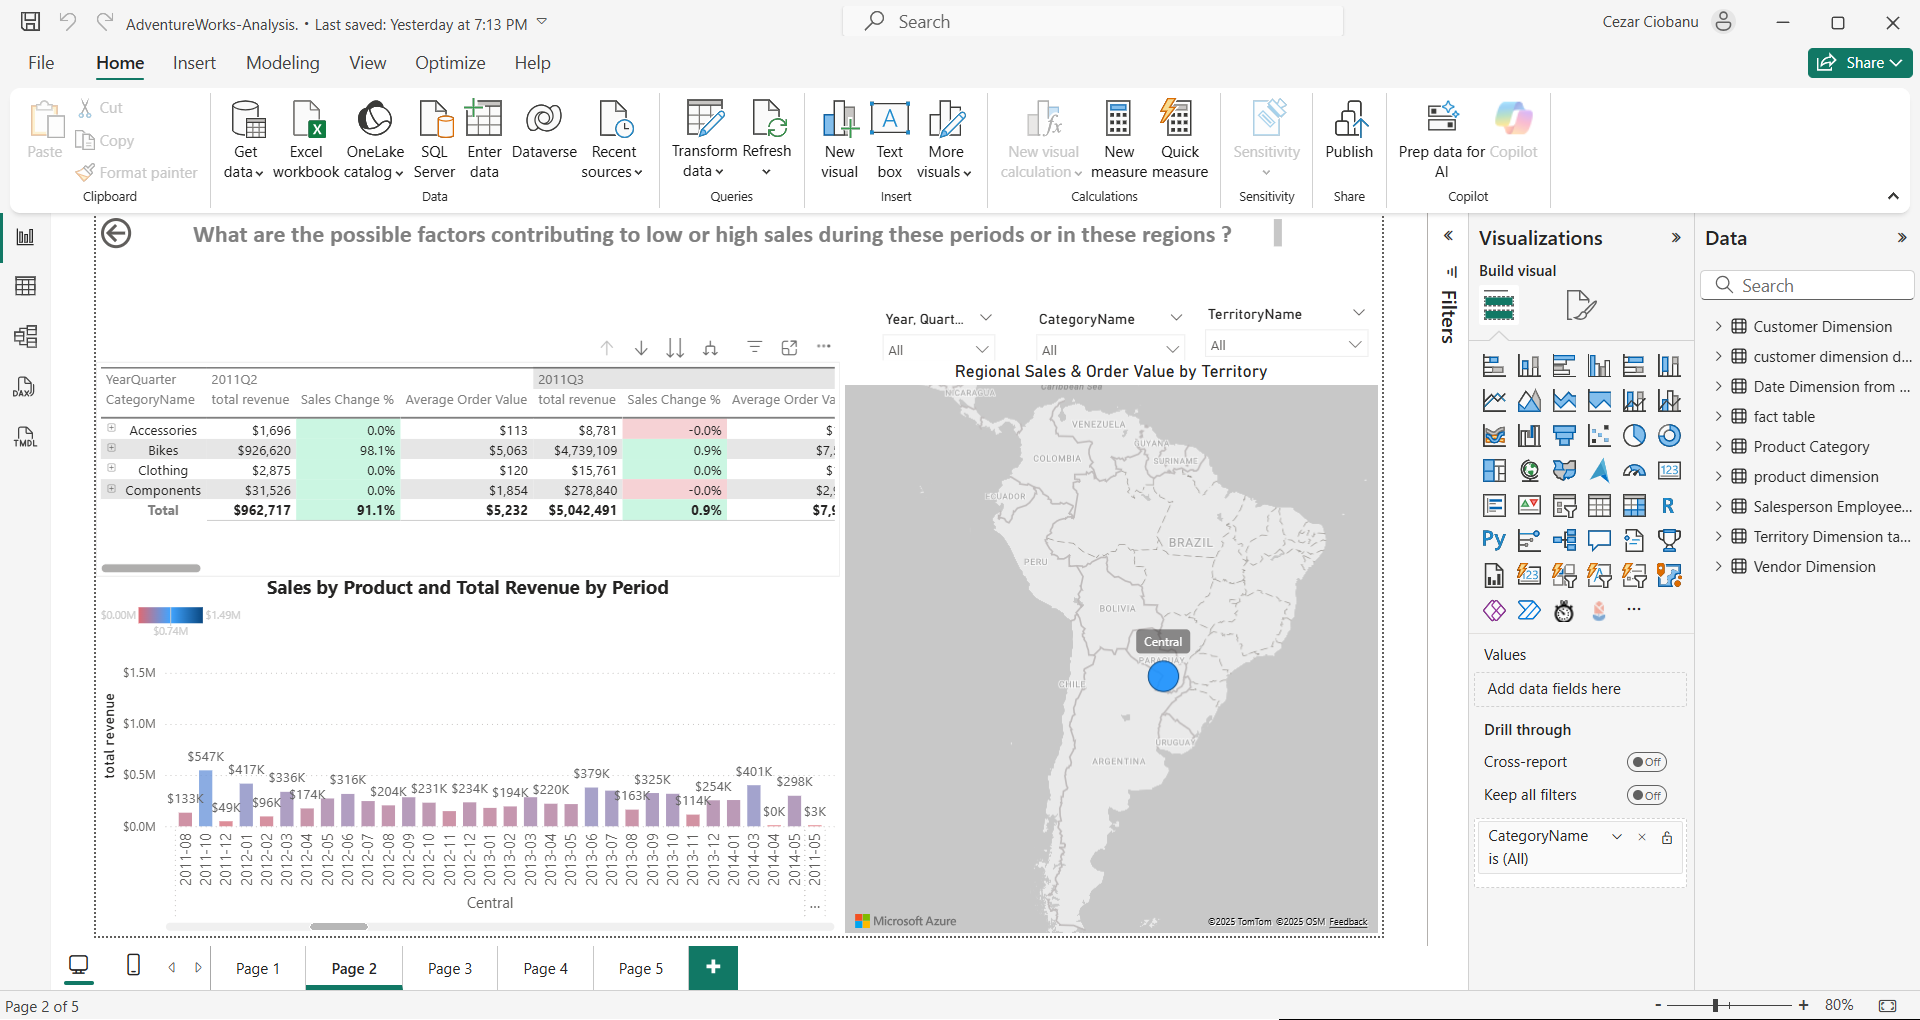

The page's visual inventory and layout, read from the dashboard file:
{"tool":"powerbi","page":{"name":"Page 2","canvas":[1280,720],"ordinal":1},"visuals":[{"type":"columnChart","title":"Sales by Product and Total Revenue by Period","fields":{"Category":["Territory Dimension table.TerritoryName","Date Dimension from orders.Period"],"Y":["fact table.total revenue"]},"box":[0,359.5,740.2,360.7],"z":0},{"type":"slicer","title":"Period","fields":{"Values":["Date Dimension from orders.Year","Date Dimension from orders.Quarter"]},"box":[772.2,92.2,132.2,56.7],"z":1000},{"type":"actionButton","box":[0,0,100,40],"z":2000},{"type":"slicer","fields":{"Values":["Product Category.CategoryName"]},"box":[925,92.5,168.8,55],"z":3000},{"type":"slicer","fields":{"Values":["Territory Dimension table.TerritoryName"]},"box":[1093.8,87.5,182.5,60],"z":4000},{"type":"textbox","box":[50,1.7,1135,38.3],"z":5000},{"type":"pivotTable","fields":{"Rows":["Product Category.CategoryName","product dimension.ProductName"],"Columns":["Date Dimension from orders.YearQuarter"],"Values":["fact table.total revenue","fact table.Sales Change %","fact table.Average Order Value"]},"box":[0,147.5,740,215],"z":6000},{"type":"azureMap","title":"Regional Sales & Order Value by Territory ","fields":{"Category":["Territory Dimension table.TerritoryName","Territory Dimension table.TerritoryGroup","Territory Dimension table.CountryRegionCode"],"Size":["fact table.total revenue"]},"box":[740,146.2,540,573.8],"z":7000}]}

Visuals, with their boxes on the page's 1280x720 design canvas (x1, y1, x2, y2). These are canvas units, not pixel positions in the 1920x1020 screenshot, which may show the page scaled, cropped or inside an application window:
"Sales by Product and Total Revenue by Period" columnChart: [0, 360, 740, 720]
"Period" slicer: [772, 92, 904, 149]
actionButton: [0, 0, 100, 40]
slicer - Product Category.CategoryName: [925, 92, 1094, 148]
slicer - Territory Dimension table.TerritoryName: [1094, 88, 1276, 148]
textbox: [50, 2, 1185, 40]
pivotTable - Product Category.CategoryName x product dimension.ProductName: [0, 148, 740, 362]
"Regional Sales & Order Value by Territory " azureMap: [740, 146, 1280, 720]
